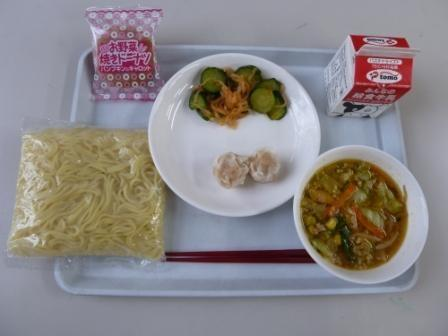Milk: (320, 29, 416, 125)
Soups: (289, 148, 424, 280)
cutlet: (209, 147, 286, 195)
pasta: (3, 110, 179, 280), (188, 64, 288, 126)
